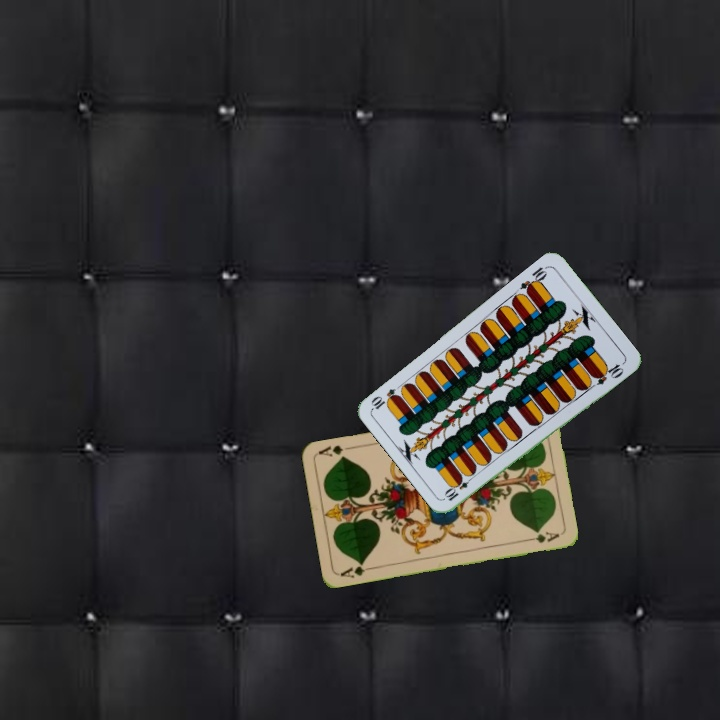E10: (516, 262, 551, 296), (441, 471, 476, 504)
GA: (336, 559, 377, 581)
